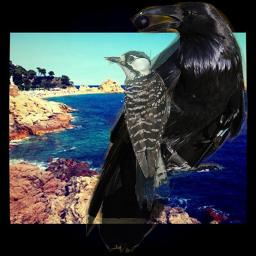Crow: (86, 2, 248, 253)
Woodpecker: (103, 50, 184, 213)
